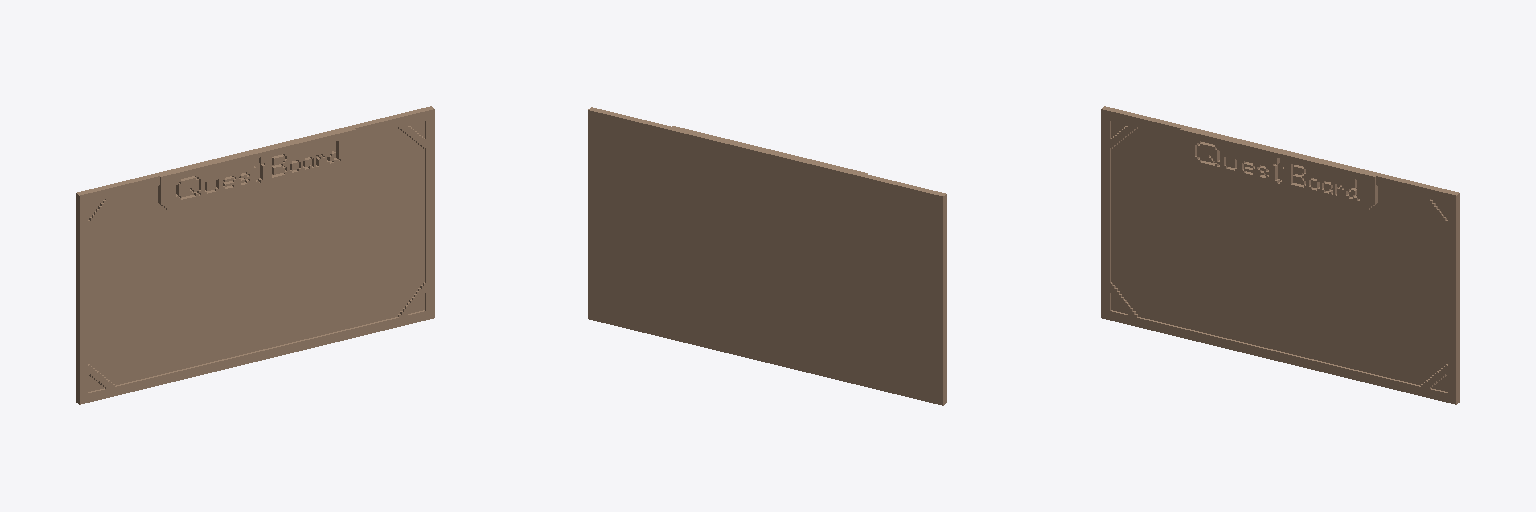
The picture shows the model from 3 angles: view 1: azimuth 30°, elevation 25°; view 2: azimuth 150°, elevation 25°; view 3: azimuth 330°, elevation 25°; orthographic projection.
Parts seen in each view (by area): view 1: object 1; view 2: object 1; view 3: object 1.
Part boxes in pixels (x1,y1,x2,y2): object 1: (76,106,434,404); object 1: (588,107,946,405); object 1: (1101,106,1459,404).
Bounding box in the file's own units: 16 × 9 × 0.4.
Materials: 1 (1 with a texture image).